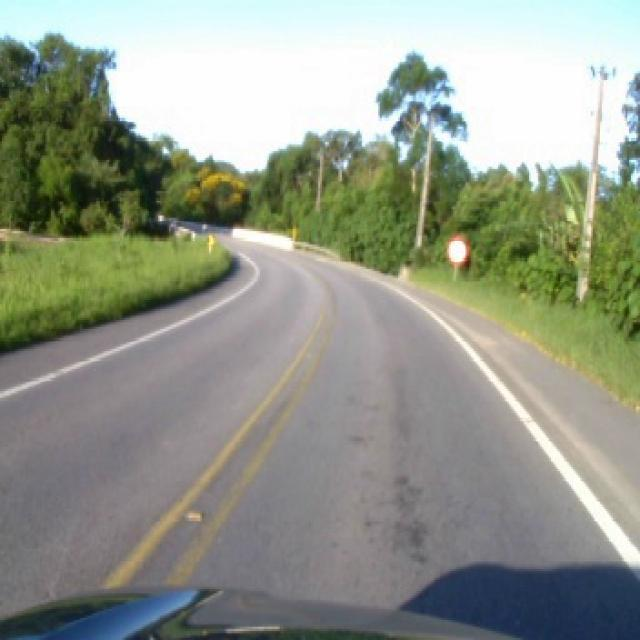Poth-hole: (184, 507, 204, 520)
